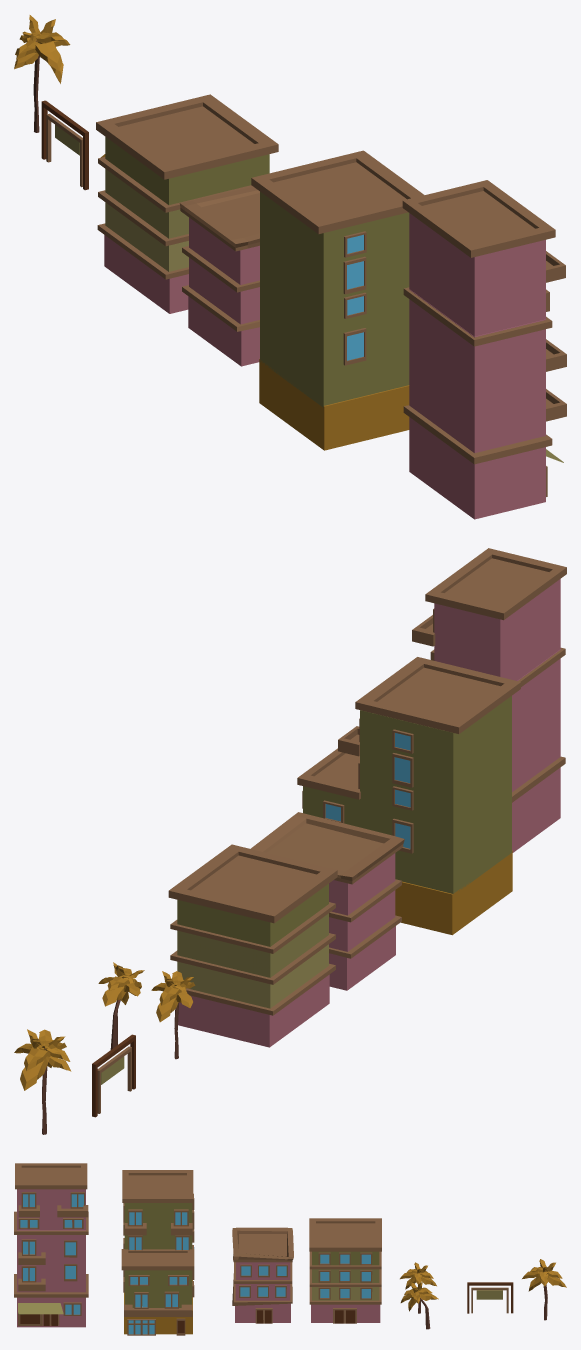
The model's file is Ciudad Frutilla SI.fbx.
The picture shows the model from 3 angles, top to bottom: view 1: azimuth 30°, elevation 25°; view 2: azimuth 150°, elevation 25°; view 3: azimuth 270°, elevation 25°; orthographic projection. The views are drawn at different scales.
Parts seen in each view (by area): view 1: Edificio 4, Edificio 3, Edificio 2, Edificio 1, Palmera_3, Meta; view 2: Edificio 3, Edificio 2, Edificio 4, Edificio 1, Palmera_3, Meta, Palmera_1, Palmera_2; view 3: Edificio 3, Edificio 4, Edificio 2, Edificio 1, Meta, Palmera_3, Palmera_2, Palmera_1.
Part boxes in pixels (x1,y1,x2,y2): Edificio 4: (402,180,566,519); Edificio 3: (251,150,424,450); Edificio 2: (96,94,278,313); Edificio 1: (179,186,259,366); Palmera_3: (14,15,70,132); Meta: (41,100,88,190); Edificio 3: (297,657,520,935); Edificio 2: (168,844,337,1047); Edificio 4: (412,548,566,852); Edificio 1: (250,812,404,990); Palmera_3: (14,1029,71,1134); Meta: (92,1034,135,1117); Palmera_1: (151,971,195,1059); Palmera_2: (98,962,144,1049); Edificio 3: (121,1170,194,1335); Edificio 4: (14,1163,88,1327); Edificio 2: (309,1218,381,1323); Edificio 1: (232,1227,293,1323); Meta: (467,1282,513,1313); Palmera_3: (522,1259,566,1320); Palmera_2: (400,1282,438,1329); Palmera_1: (400,1262,436,1313).
Size of the model in its own units: 17.89 by 24.16 by 84.06.
